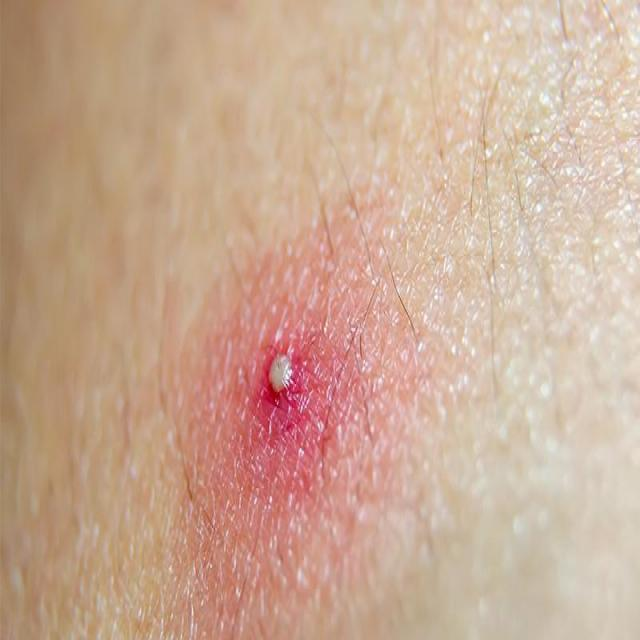whiteheads: (247, 326, 310, 426)
